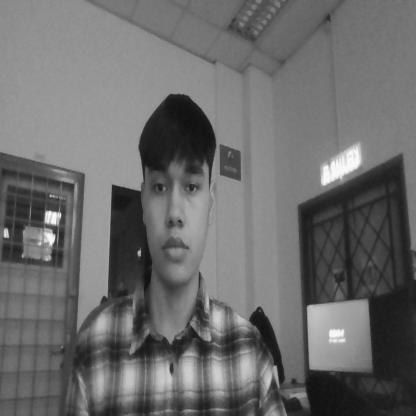Open-Eyes: (145, 162, 208, 210)
